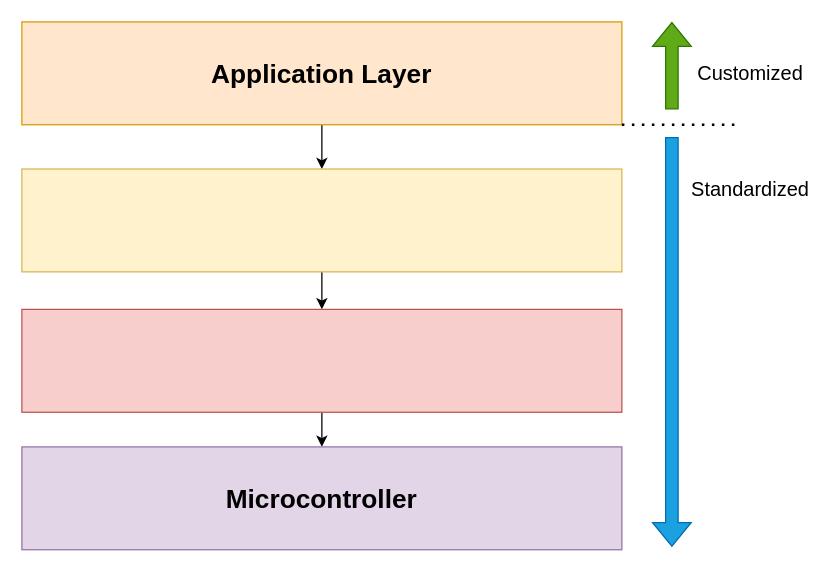
Some shapes in this 831 by 573 pixel diagram are drawn without their labels. Each missing label, with the centre of its shape:
"Basic Software Layer (BSW)" goes at [321,360].
"Run-Time Environment (RTE)" goes at [321,220].
